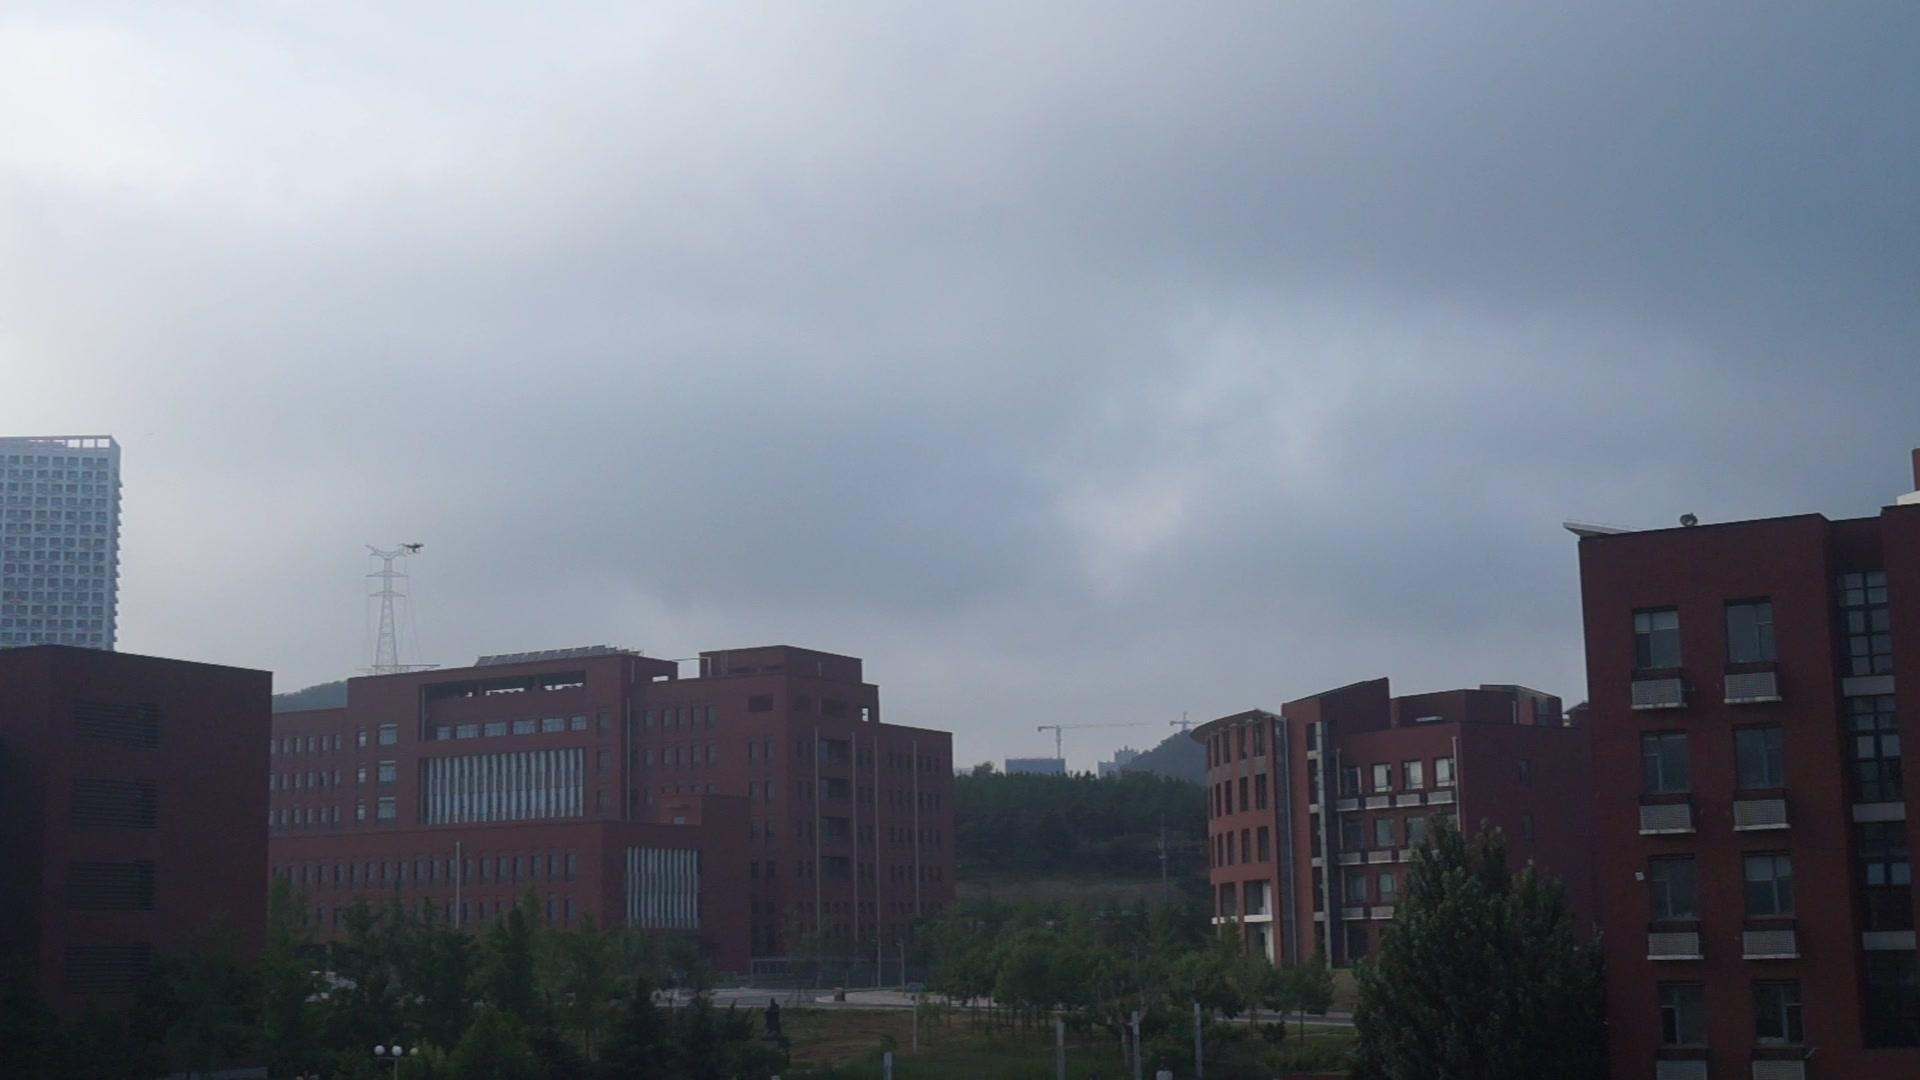UAV: (400, 543, 425, 555)
